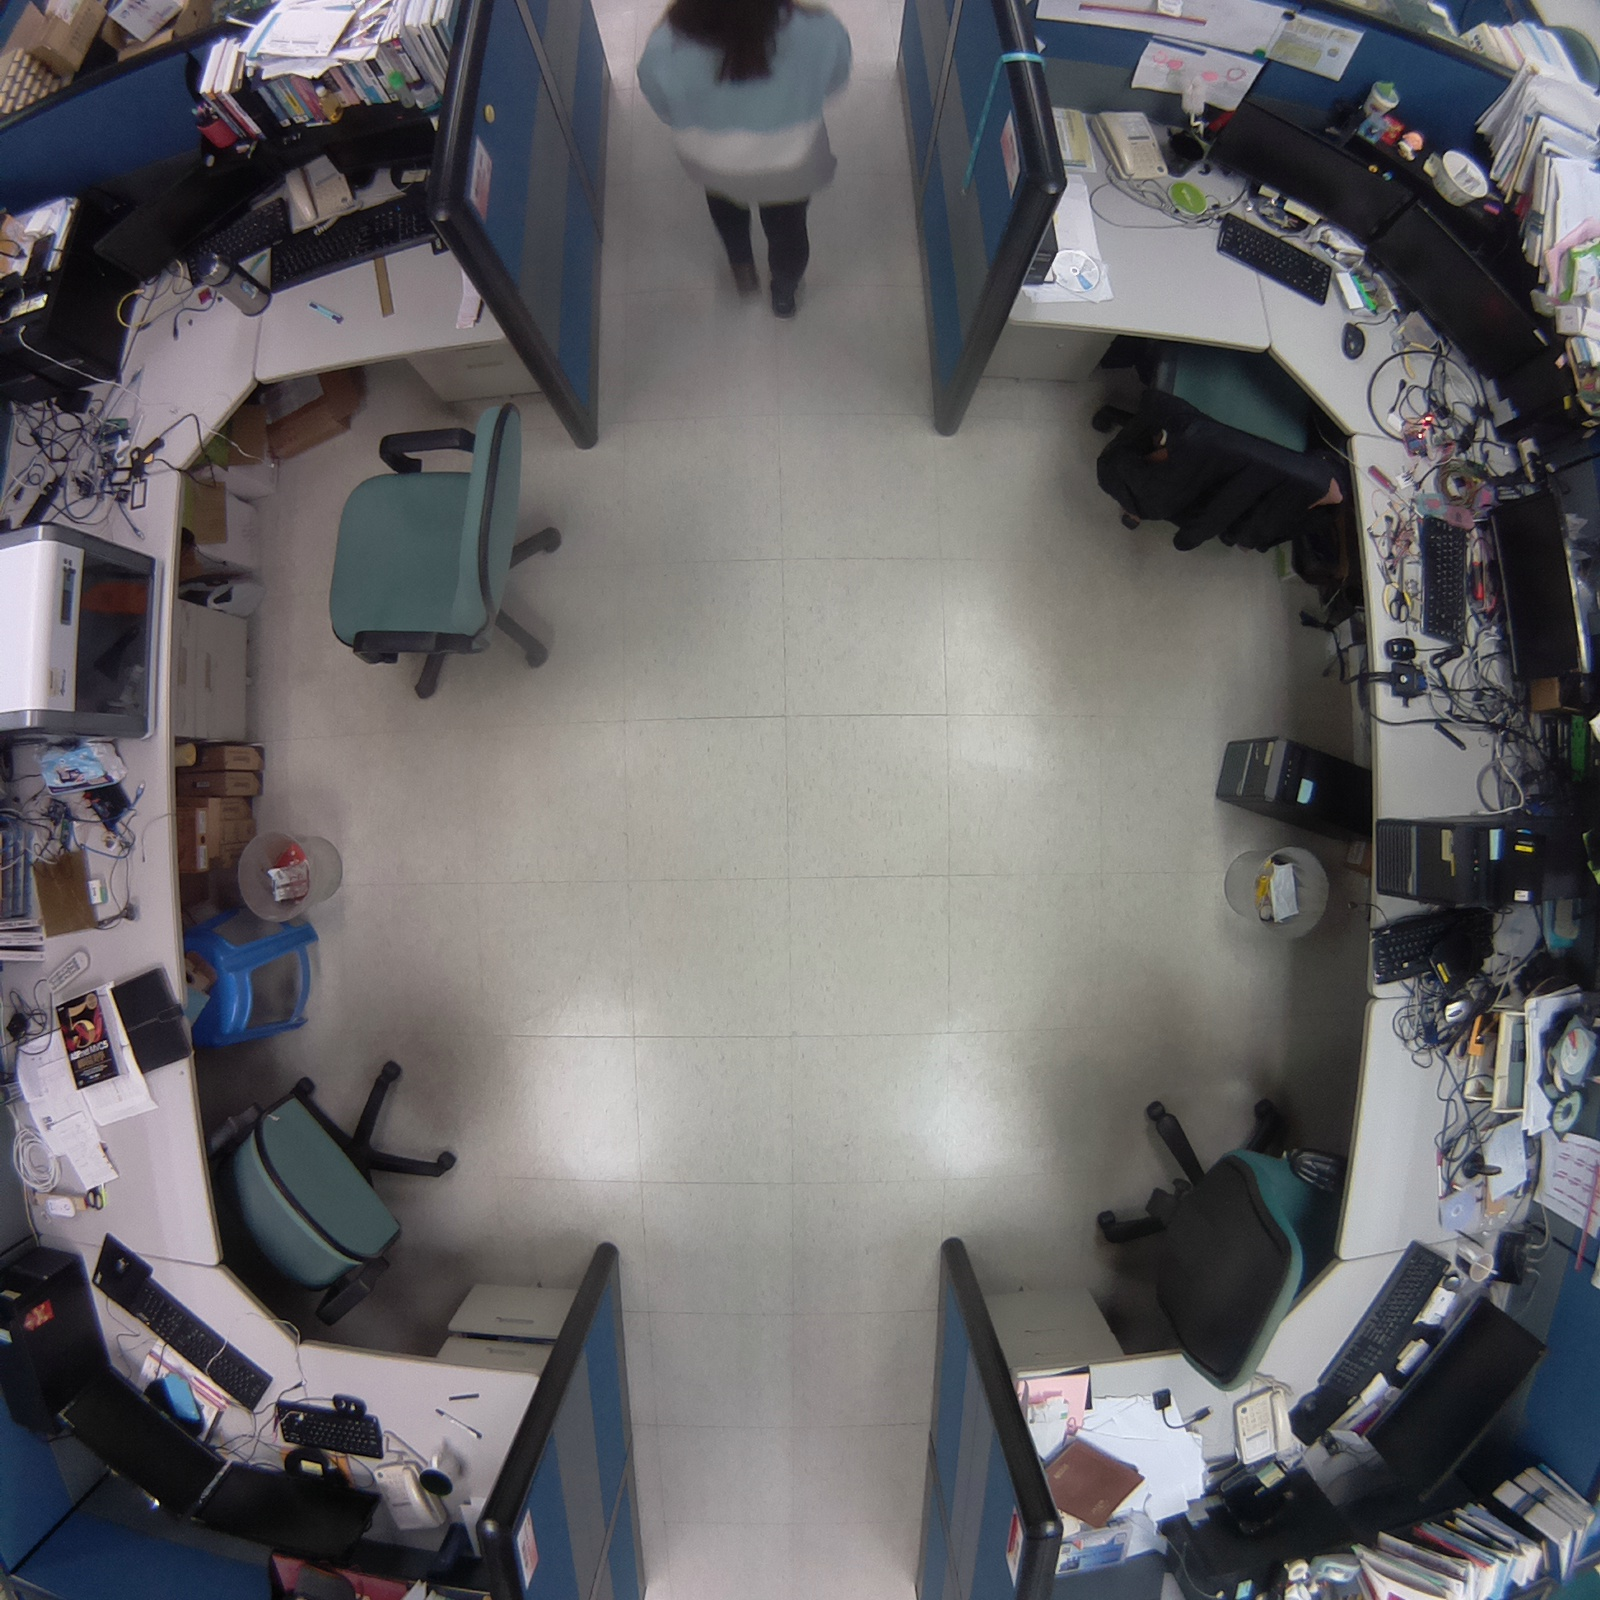chair: (312, 384, 583, 718), (1068, 1084, 1339, 1410), (199, 1037, 466, 1347), (1077, 308, 1352, 582)
walking: (623, 1, 878, 336)
